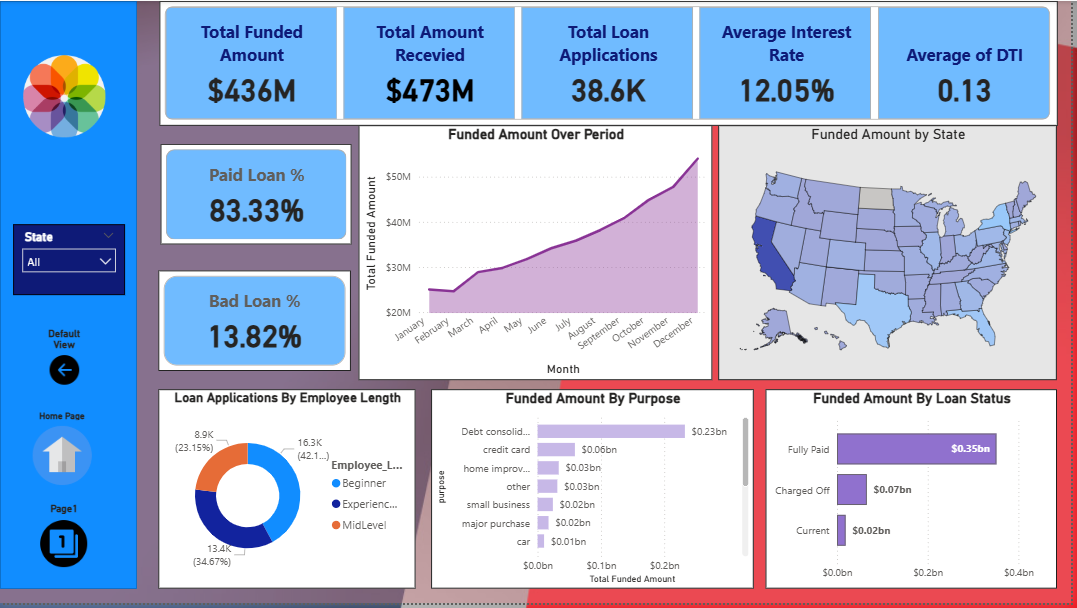

This screenshot's page, from the dashboard's own definition file:
{"tool":"powerbi","page":{"name":"Home Page","canvas":[1280,720],"ordinal":0},"visuals":[{"type":"shapeMap","title":"Funded Amount by State","fields":{"Category":["financial_loan.address_state"],"Value":["Measures_ Table.Total Funded Amount"]},"box":[858.2,149,404.8,304.4],"z":0},{"type":"donutChart","title":" Loan Applications By Employee Length","fields":{"Category":["financial_loan.Employee_Length"],"Y":["Measures_ Table.Total Loan Applications"]},"box":[189.4,464.7,307.7,238],"z":1000},{"type":"lineChart","title":"Funded Amount Over Period","fields":{"Category":["financial_loan.Start of Month.Variation.Date Hierarchy.Month"],"Y":["Measures_ Table.Total Funded Amount"]},"box":[429.1,149,422.6,304.4],"z":2000},{"type":"clusteredBarChart","title":"Funded Amount By Purpose","fields":{"Category":["financial_loan.purpose"],"Y":["Measures_ Table.Total Funded Amount"]},"box":[514.9,464.7,385.4,238],"z":3000},{"type":"clusteredBarChart","title":"Funded Amount By Loan Status","fields":{"Category":["financial_loan.loan_status"],"Y":["Measures_ Table.Total Funded Amount"]},"box":[914.9,464.7,348.1,238],"z":4000},{"type":"cardVisual","fields":{"Data":["Measures_ Table.Total Funded Amount","Measures_ Table.Total Amount Recevied","Measures_ Table.Total Loan Applications","Measures_ Table.Avg Interest Rate","Avg(financial_loan.dti)"]},"box":[191.1,0,1073.5,149],"z":5000},{"type":"cardVisual","fields":{"Data":["Measures_ Table.Bad Loan %"]},"box":[189.4,322.2,230,120],"z":6000},{"type":"cardVisual","fields":{"Data":["Measures_ Table.Paid Loan %"]},"box":[191.8,170.5,228.6,120.1],"z":7000},{"type":"group","id":"g1","title":"Group 1","box":[0,0,163.5,702.7],"z":8000},{"type":"shape","box":[0,0,163.5,702.7],"z":8000,"group":"g1"},{"type":"image","title":"Page1","box":[40.9,599.1,71.5,84.2],"z":8375,"group":"g1"},{"type":"image","title":"Default View","box":[45.3,390.2,64.2,72.9],"z":8562,"group":"g1"},{"type":"slicer","fields":{"Values":["financial_loan.address_state"]},"box":[15.5,267.2,133.9,84.2],"z":8656,"group":"g1"},{"type":"image","title":"Home Page","box":[30.7,489,87.6,97.2],"z":8750,"group":"g1"},{"type":"image","box":[22.7,30.8,108.5,166.8],"z":9250,"group":"g1"}]}

Visuals, with their boxes in screenshot pixels (x1, y1, x2, y2), scaled from the page's 1280x720 canvas onto the 1077x608 screenshot:
"Funded Amount by State" shapeMap: 722:126:1063:383
" Loan Applications By Employee Length" donutChart: 159:392:418:593
"Funded Amount Over Period" lineChart: 361:126:717:383
"Funded Amount By Purpose" clusteredBarChart: 433:392:758:593
"Funded Amount By Loan Status" clusteredBarChart: 770:392:1063:593
cardVisual - Measures_ Table.Total Funded Amount x Measures_ Table.Total Amount Recevied: 161:0:1064:126
cardVisual - Measures_ Table.Bad Loan %: 159:272:353:373
cardVisual - Measures_ Table.Paid Loan %: 161:144:354:245
"Group 1" group: 0:0:138:593
shape: 0:0:138:593
"Page1" image: 34:506:95:577
"Default View" image: 38:330:92:391
slicer - financial_loan.address_state: 13:226:126:297
"Home Page" image: 26:413:100:495
image: 19:26:110:167
